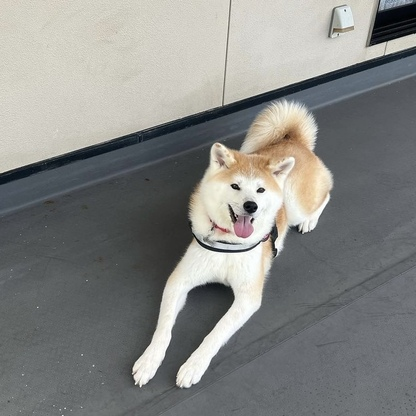akita: (127, 95, 341, 393)
